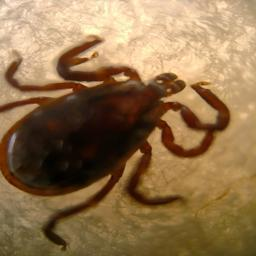Ixodes scapularis: (8, 36, 227, 231)
